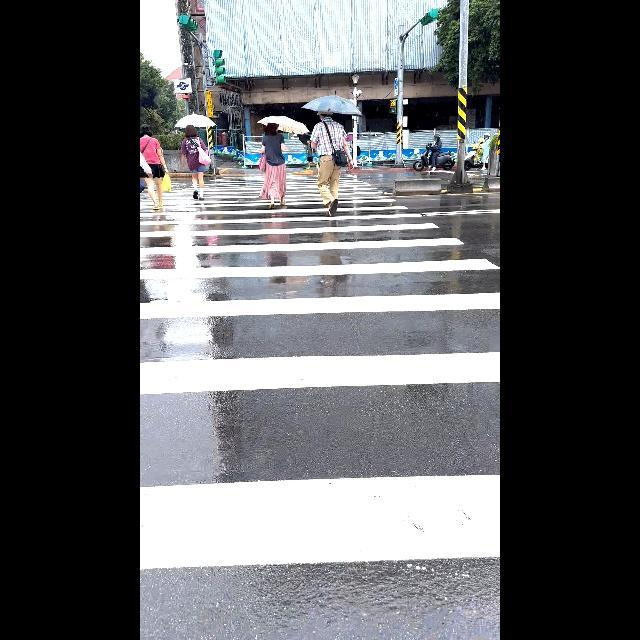sidewalk: (142, 164, 500, 571)
